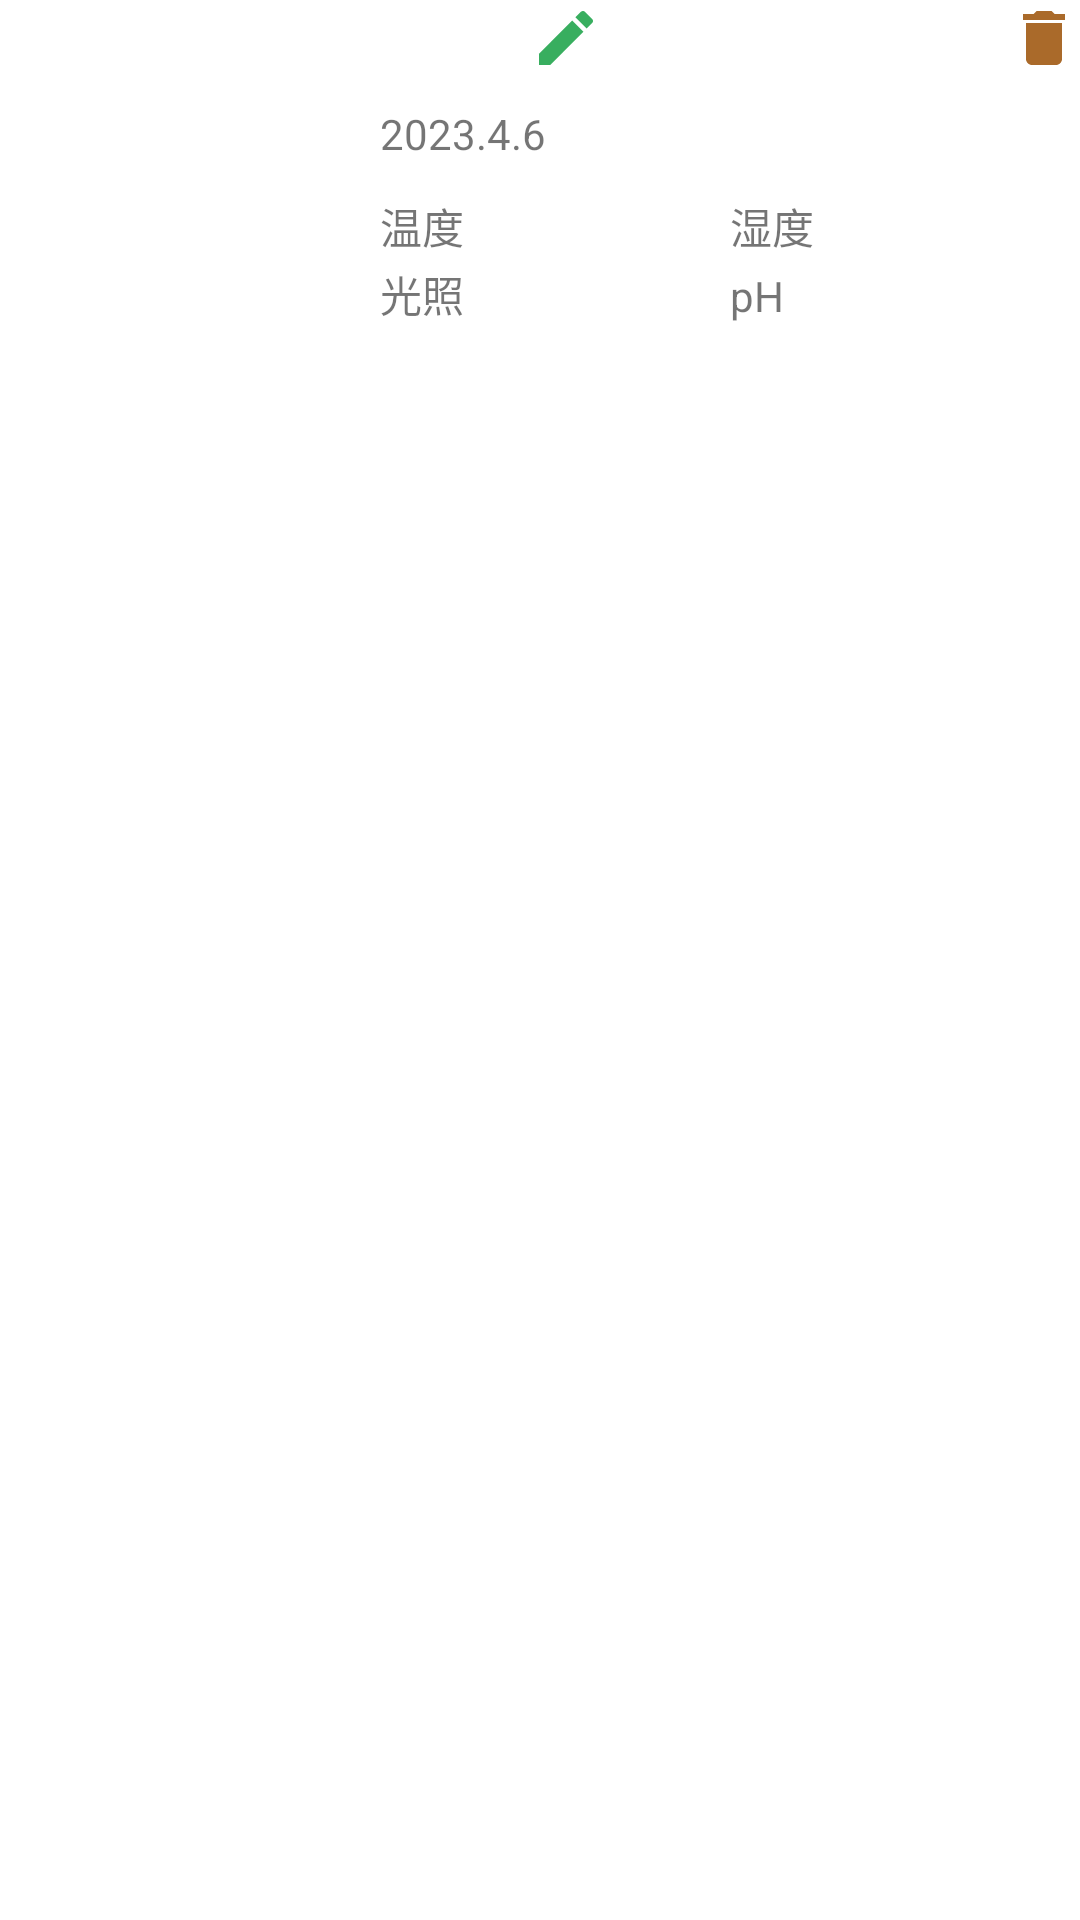

Named icons in this screenshot (1080 x 1920) and their centers, (x,y):
delete plant: (1044,38)
modify plantname: (566,38)
